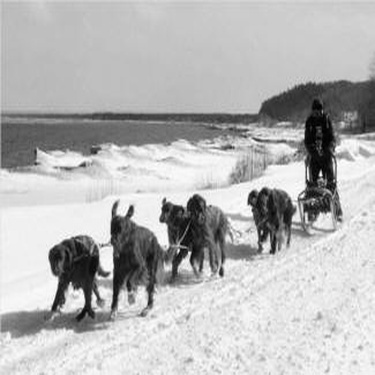dog: (100, 194, 180, 320), (40, 237, 112, 324), (180, 192, 245, 283), (155, 192, 205, 283), (257, 183, 298, 253), (245, 183, 280, 252)
